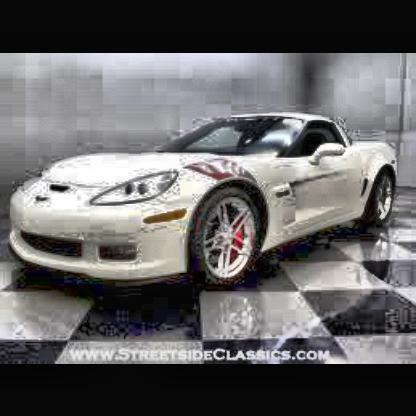Chevrolet Corvette Ron Fellows Edition Z06 2007: (7, 108, 402, 291)
